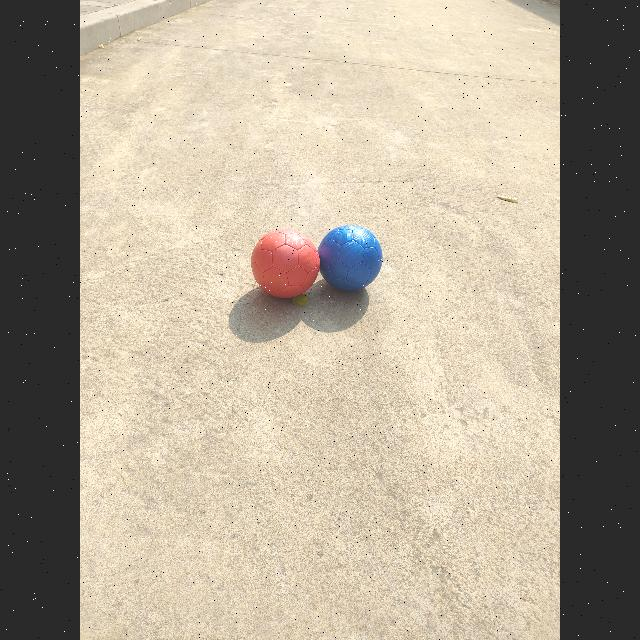B: (318, 225, 382, 292)
R: (251, 230, 319, 298)
